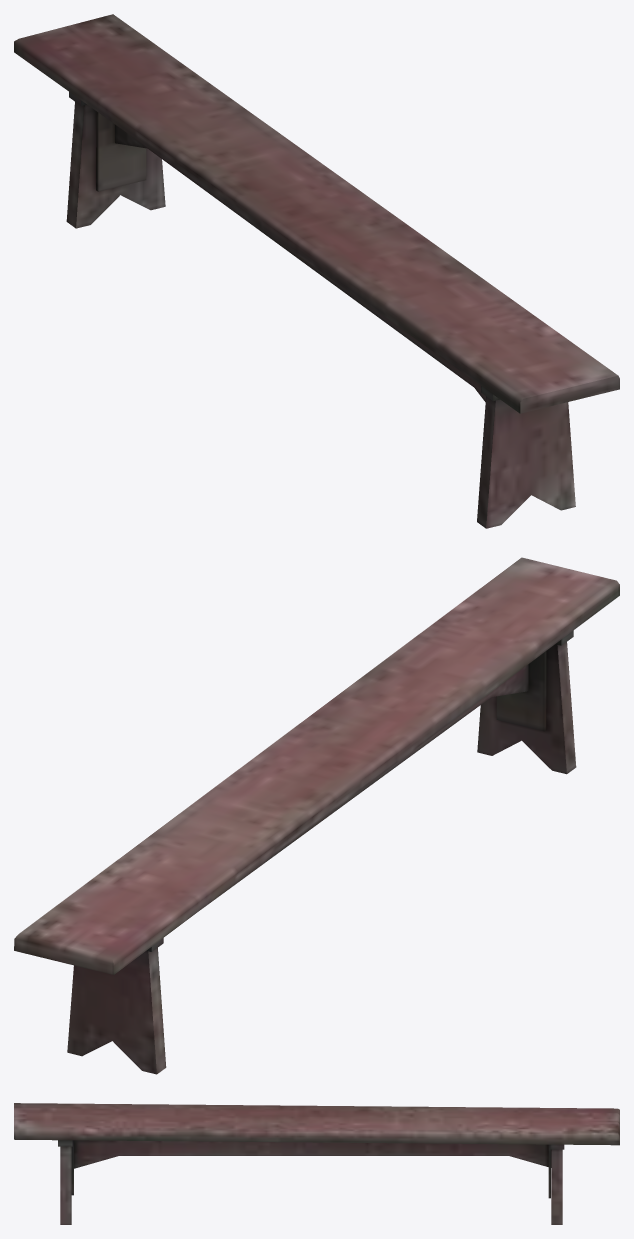
Rendered from cafeteria_bench001a.glb.
3 renders of one model, top to bottom at view 1: azimuth 30°, elevation 25°; view 2: azimuth 150°, elevation 25°; view 3: azimuth 270°, elevation 25°, orthographic. The views are drawn at different scales.
Visible parts, largest first — view 1: 0_cafeteria_tables01; view 2: 0_cafeteria_tables01; view 3: 0_cafeteria_tables01.
Part boxes in pixels (<box>): 0_cafeteria_tables01: <box>14,14,619,528</box>; 0_cafeteria_tables01: <box>14,557,619,1074</box>; 0_cafeteria_tables01: <box>14,1103,619,1224</box>.
Bounding box in the file's own units: 0.3208 × 0.4877 × 2.82.
Materials: 1 (1 with a texture image).
